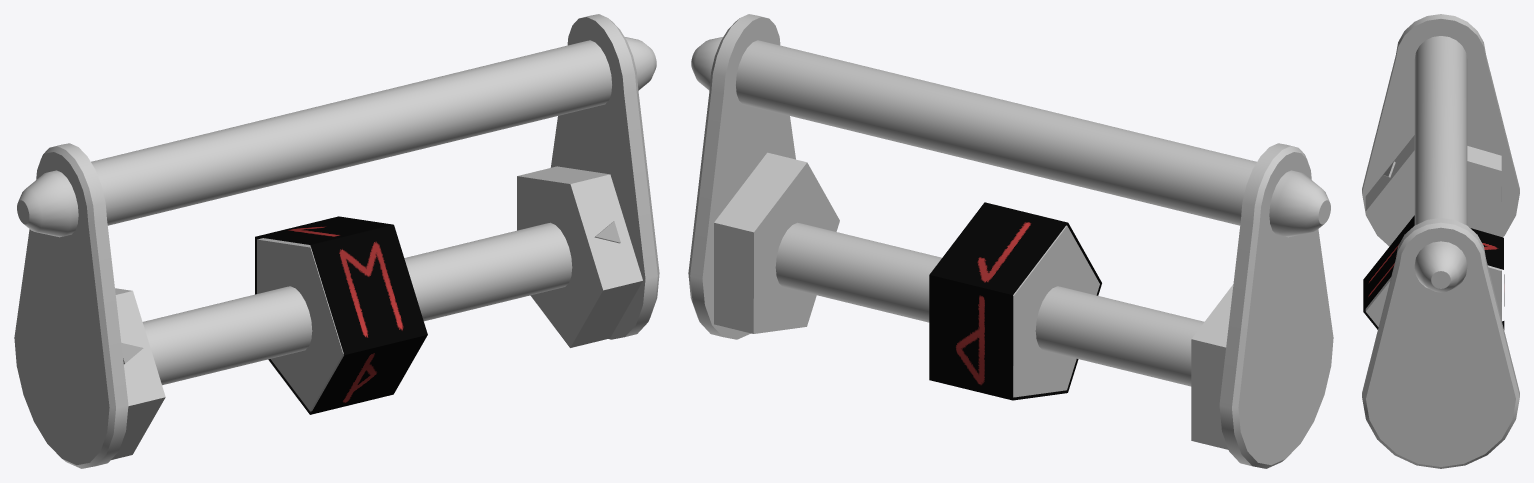
Rendered from cylinder_simple.fbx.
3 renders of one model, left to right at view 1: azimuth 30°, elevation 25°; view 2: azimuth 150°, elevation 25°; view 3: azimuth 270°, elevation 25°, orthographic. The views are drawn at different scales.
Visible parts, largest first — view 1: shackle, other, disk; view 2: shackle, other, disk; view 3: shackle, other, disk.
Boxes of the visible parts, bbox=[...] form: shackle: bbox=[17, 14, 659, 347]; other: bbox=[14, 143, 572, 468]; disk: bbox=[255, 216, 427, 414]; shackle: bbox=[688, 14, 1330, 339]; other: bbox=[775, 143, 1333, 468]; disk: bbox=[929, 202, 1101, 400]; shackle: bbox=[1362, 36, 1519, 468]; other: bbox=[1362, 14, 1519, 246]; disk: bbox=[1363, 215, 1504, 329].
Size of the model in its own units: 7.6 by 3.61 by 2.1.
